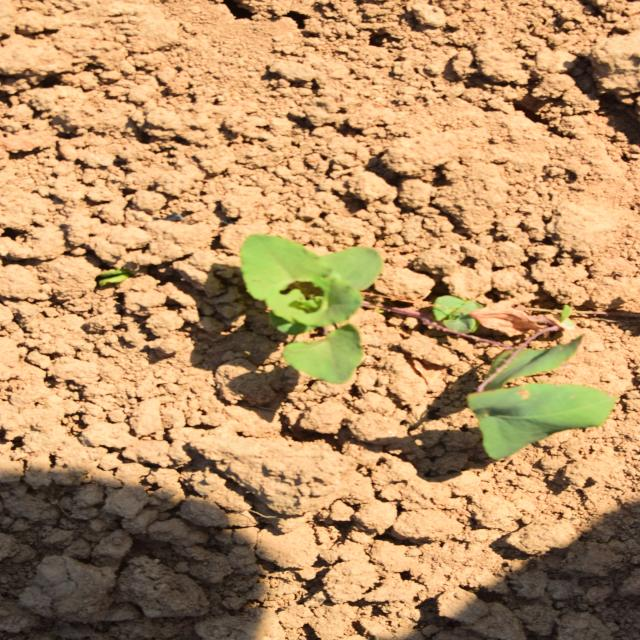Asiatic_Smartweed: (253, 228, 409, 398), (168, 445, 312, 613)
